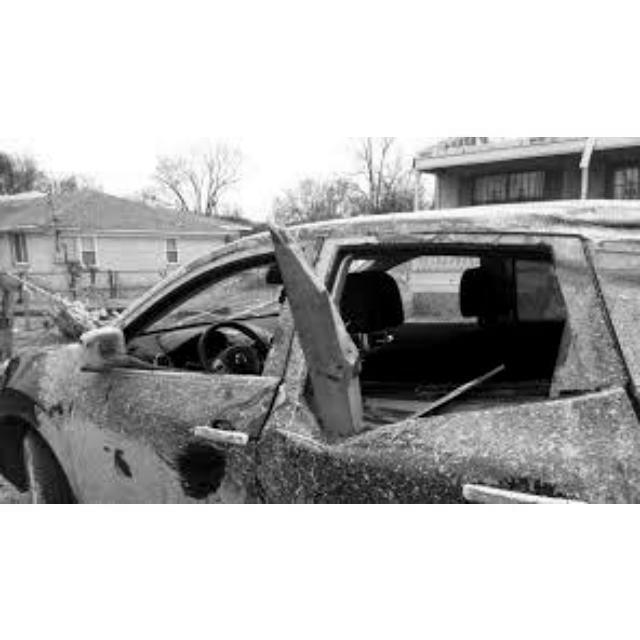doorouter-dent: (299, 210, 606, 493)
